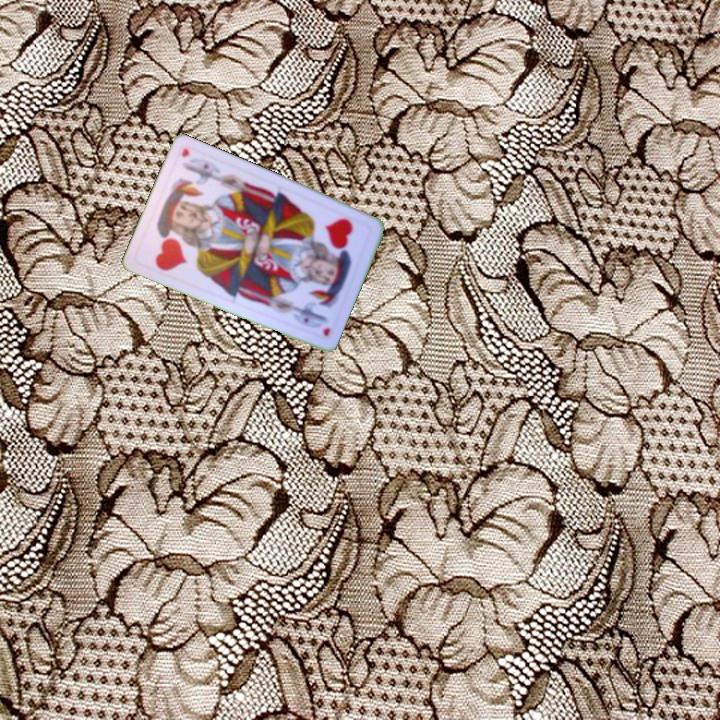h_j.png: (298, 204, 375, 286), (133, 201, 210, 283)
